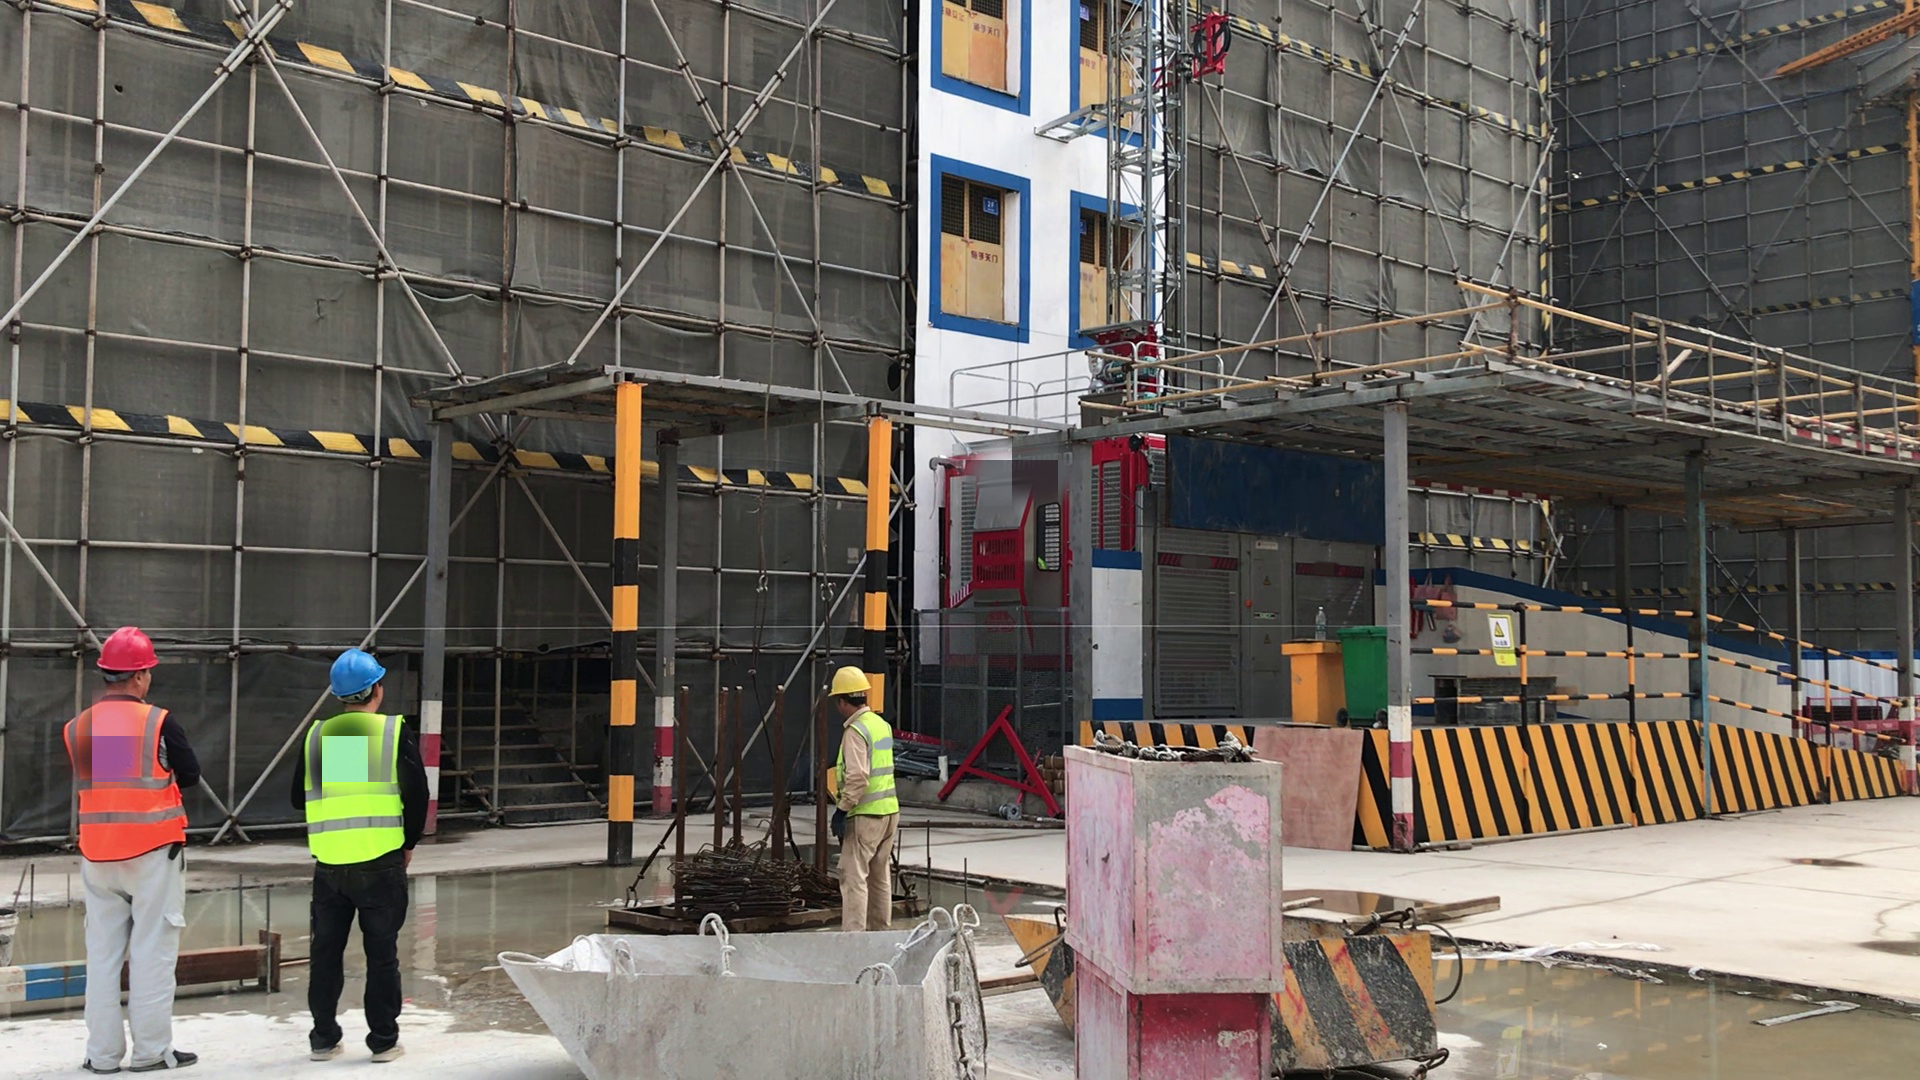fence: (1410, 559, 1920, 769)
helmet: (89, 627, 167, 679), (326, 643, 389, 704), (826, 666, 876, 701)
hopper: (489, 913, 1011, 1080), (999, 886, 1448, 1080)
person: (55, 625, 203, 1080), (289, 637, 432, 1078), (808, 658, 913, 937)
slogan: (1492, 607, 1521, 666)
vest: (61, 692, 192, 875), (300, 714, 411, 870), (827, 713, 906, 834)
